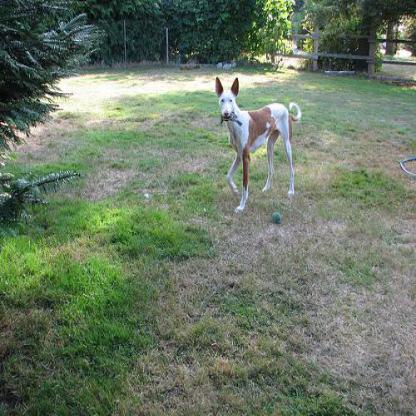dog: (196, 64, 308, 215)
